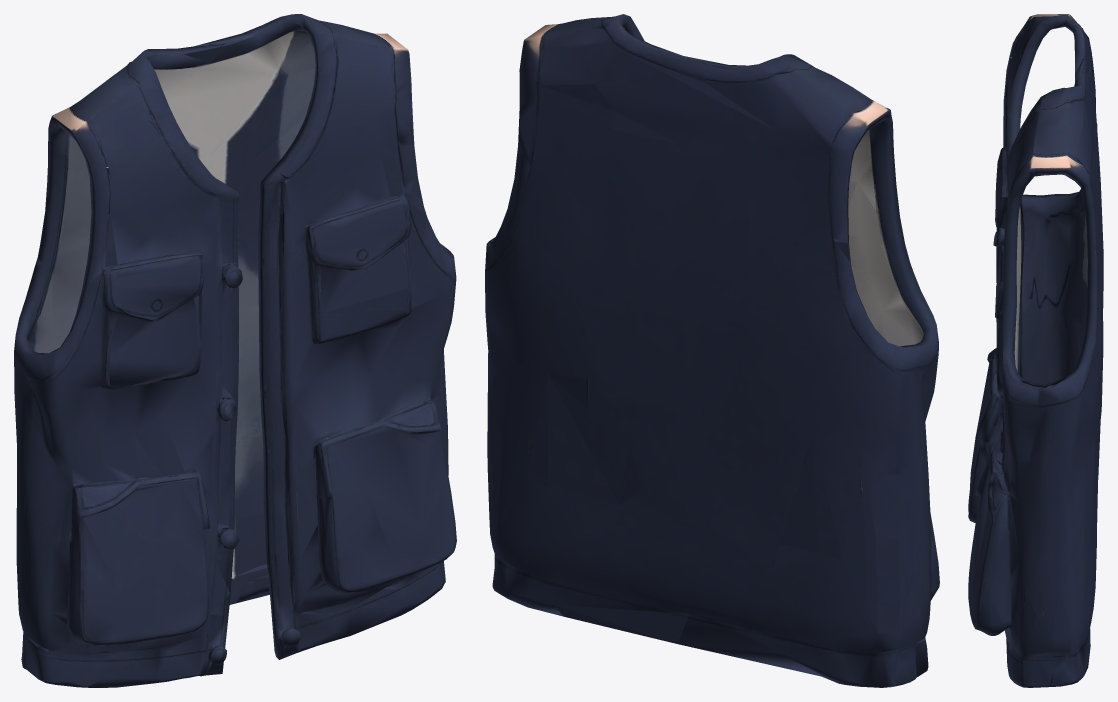
File: developer-vest.glb
3 views of the same model, side by side, from view 1: azimuth 30°, elevation 25°; view 2: azimuth 150°, elevation 25°; view 3: azimuth 270°, elevation 25° (orthographic). The views are drawn at different scales.
Size of the model in its own units: 1.46 by 2 by 0.4299.
1 material, 1 textured.
